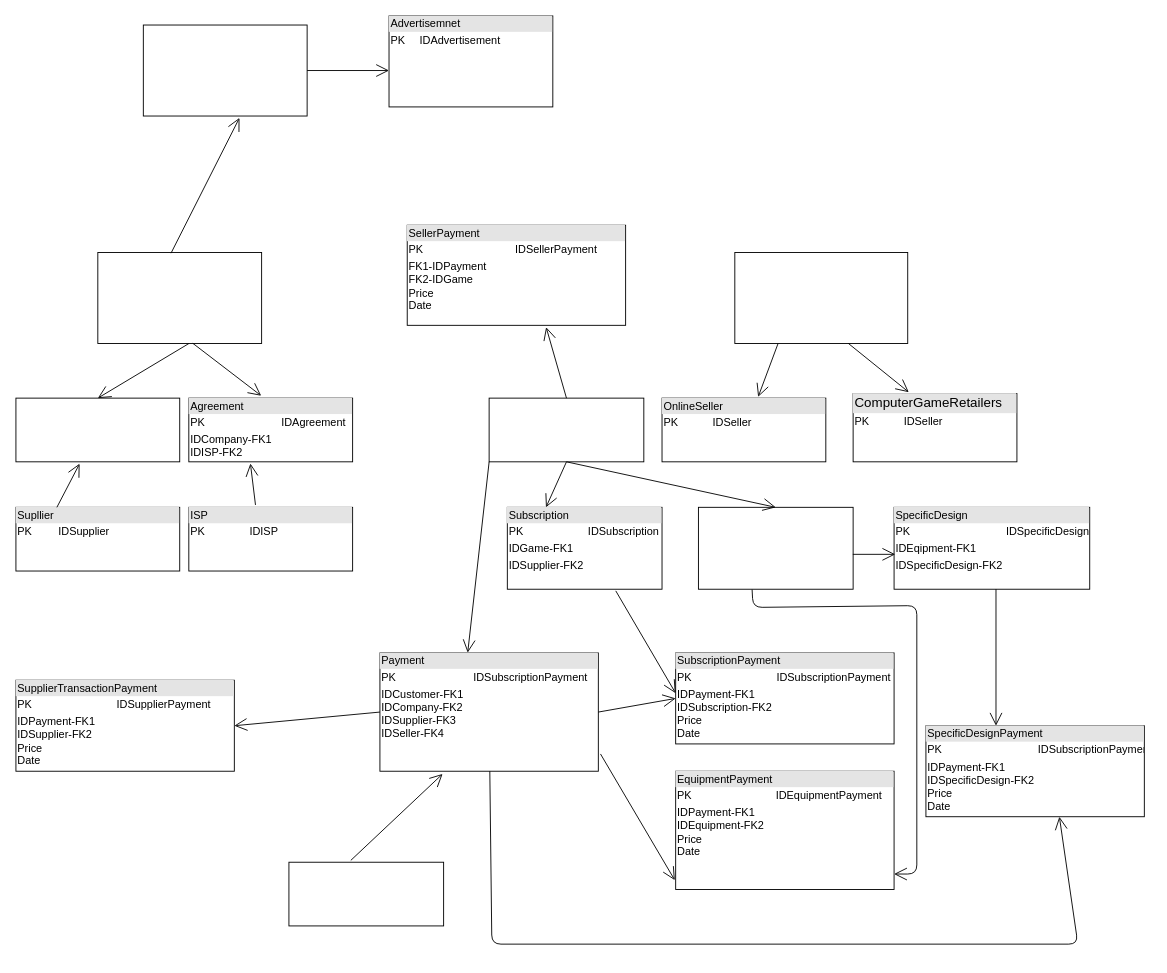
The diagram is 1167 pixels wide and 973 high, and some of its shapes have lost their labels. Here are the shapes that lost their labels. From the top down, the box of each, then its label:
(142, 24, 307, 116): GameForum PK IDGameForum FK1-IDCustomer
(97, 252, 262, 344): Company PK IDCompany
(734, 252, 908, 344): SellerGame PK IDSeller
(15, 397, 180, 462): ContractAuthorization PK IDCompany IDCompany-FK1 IDSupplier-FK2
(488, 397, 644, 462): Game PK IDGame IDCompany-Fk1
(698, 506, 853, 589): Equipment PK IDEquipment IDGame-FK1 IDSupplier-FK2
(288, 861, 444, 926): Customer PK IDCustomer IDISP-FK1
